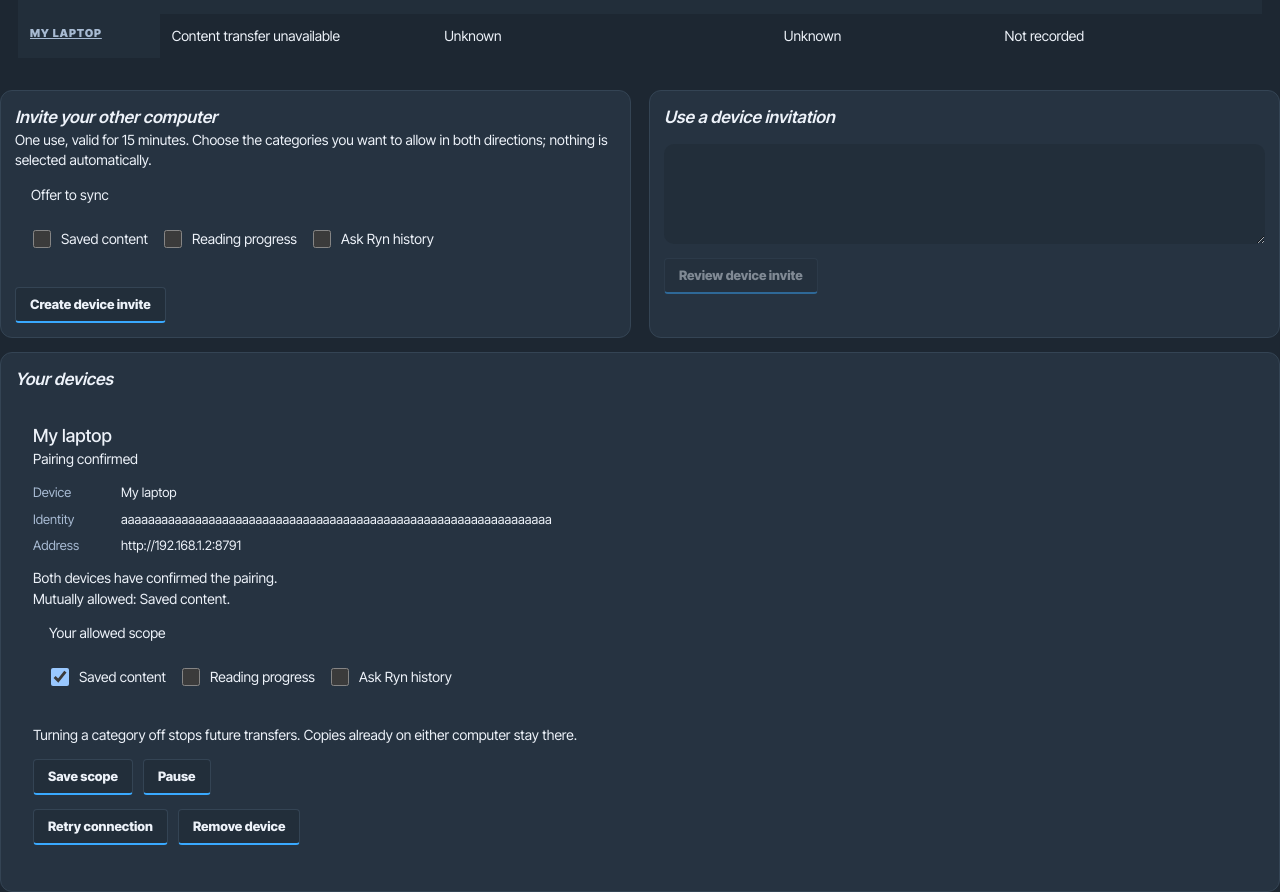
Test: uses the reviewed policy revision and preserves saved scope when pausing
(page scrolled)
Check: the text "Pairing confirmed" is shown, box [33,450,138,467]
Click the checkbox labelled "Reading progress" below "Your allowed scope". click: (191, 677)
box: [182,660,200,694]
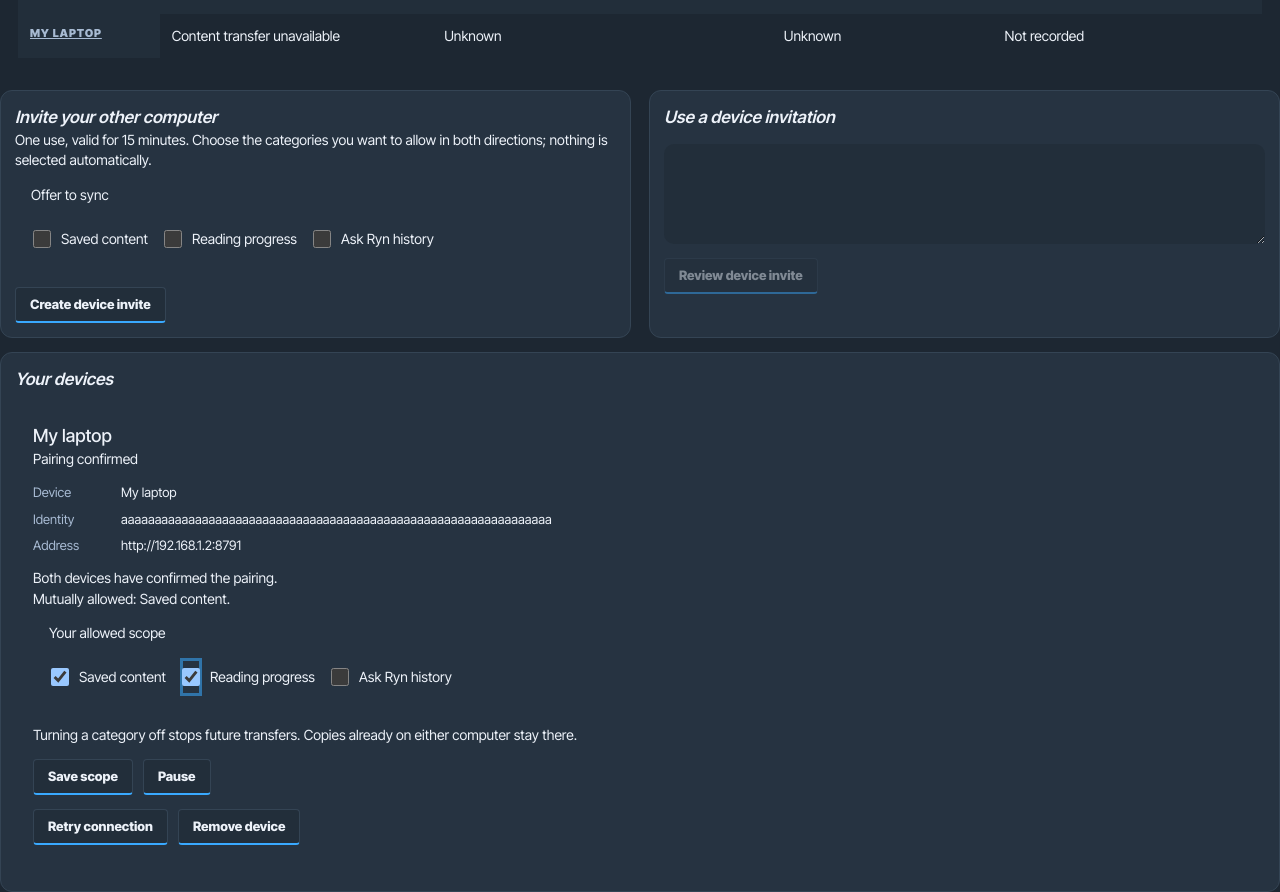
Click the button "Pause". click: (177, 777)
box: [143,759,210,795]
(page scrolled)
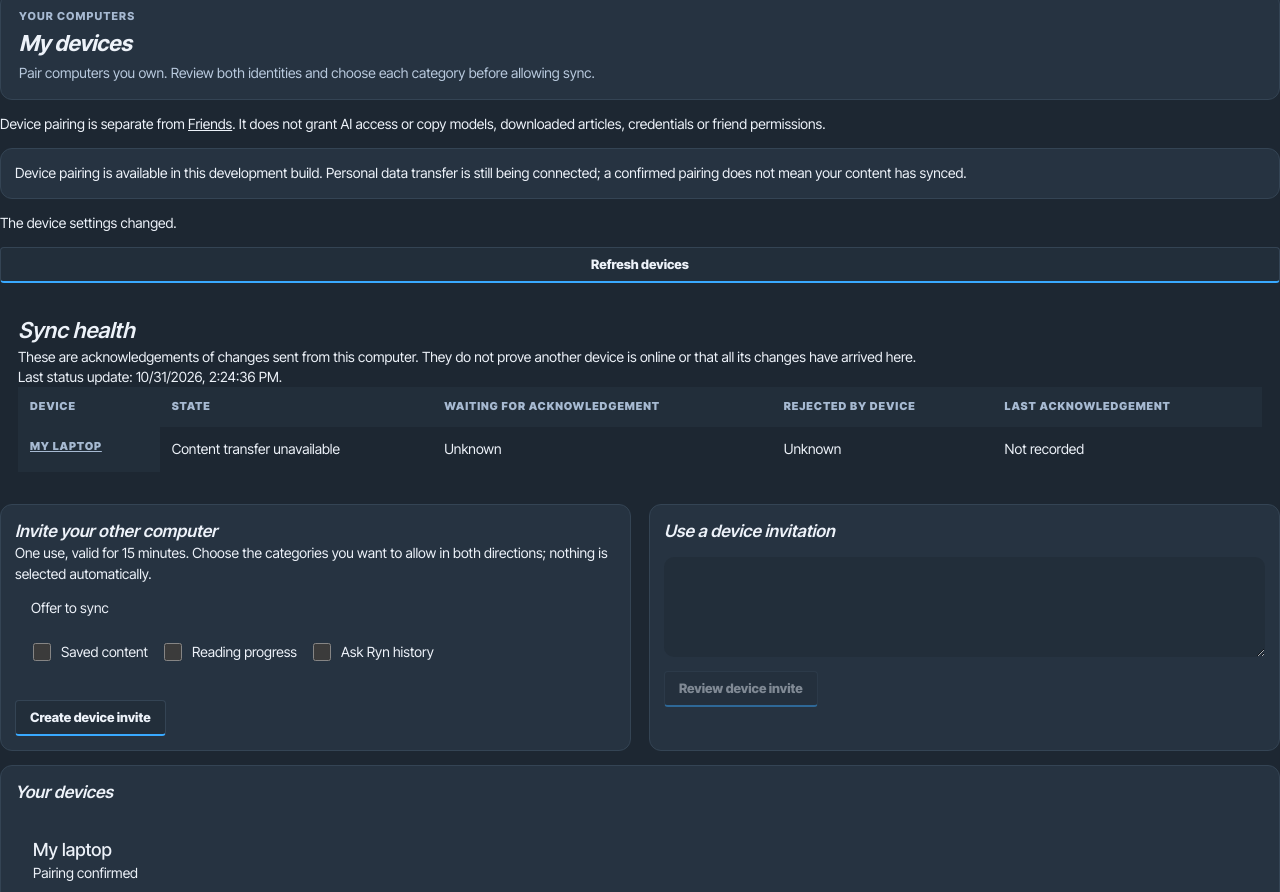
Check: the message shows "settings changed", box [0,214,177,231]
